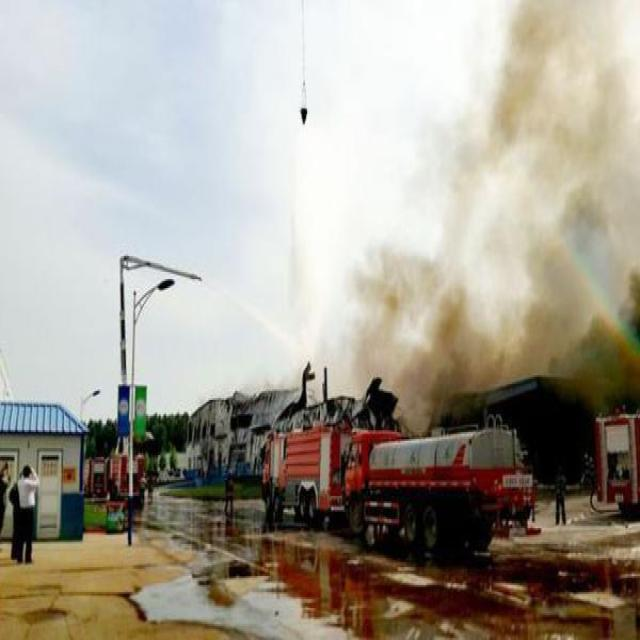smoke: (346, 0, 640, 419)
